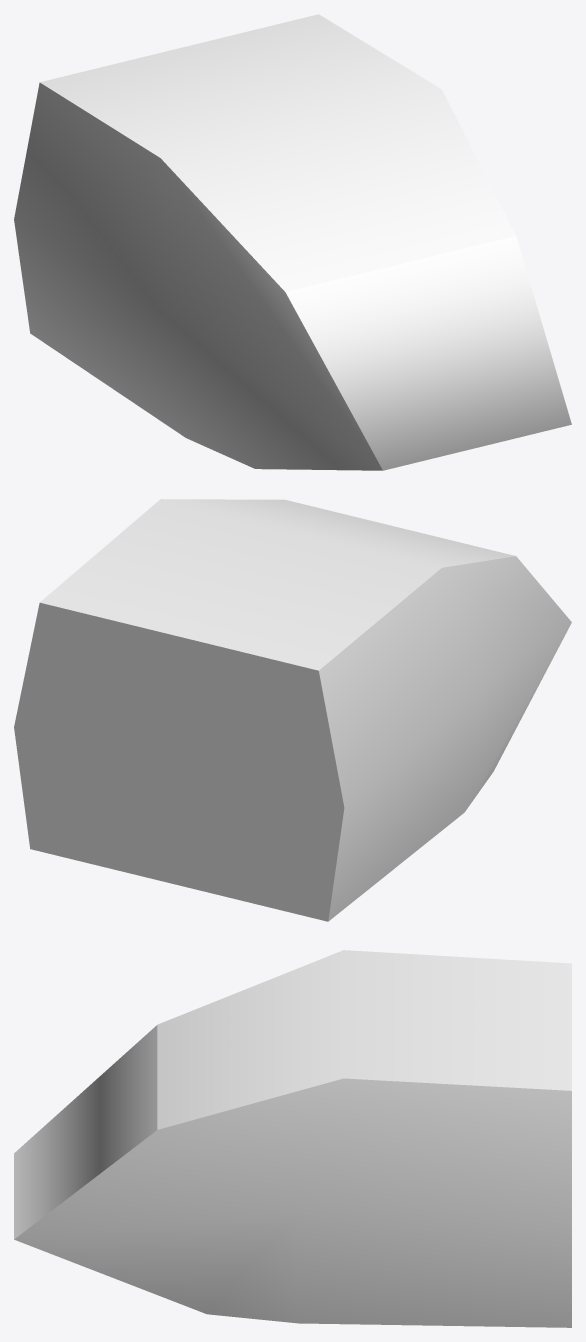
The model's file is cockpit3.fbx.
3 renders of one model, top to bottom at view 1: azimuth 30°, elevation 25°; view 2: azimuth 150°, elevation 25°; view 3: azimuth 270°, elevation 25°, orthographic. The views are drawn at different scales.
Parts seen in each view (by area): view 1: pasted__pCube1; view 2: pasted__pCube1; view 3: pasted__pCube1.
Part boxes in pixels (x1,y1,x2,y2): pasted__pCube1: [14, 14, 571, 470]; pasted__pCube1: [14, 499, 571, 921]; pasted__pCube1: [14, 950, 571, 1327].
Size of the model in its own units: 296 by 225 by 464.
